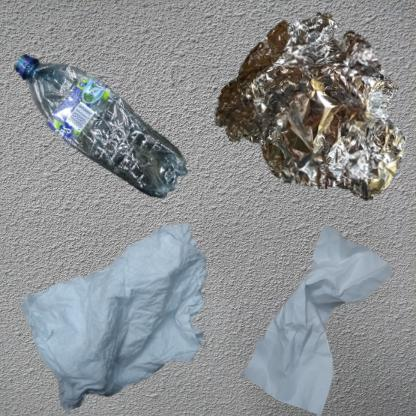aluminio: (213, 10, 409, 201)
botella: (10, 10, 241, 293)
papel: (10, 213, 272, 416), (213, 213, 416, 416)
